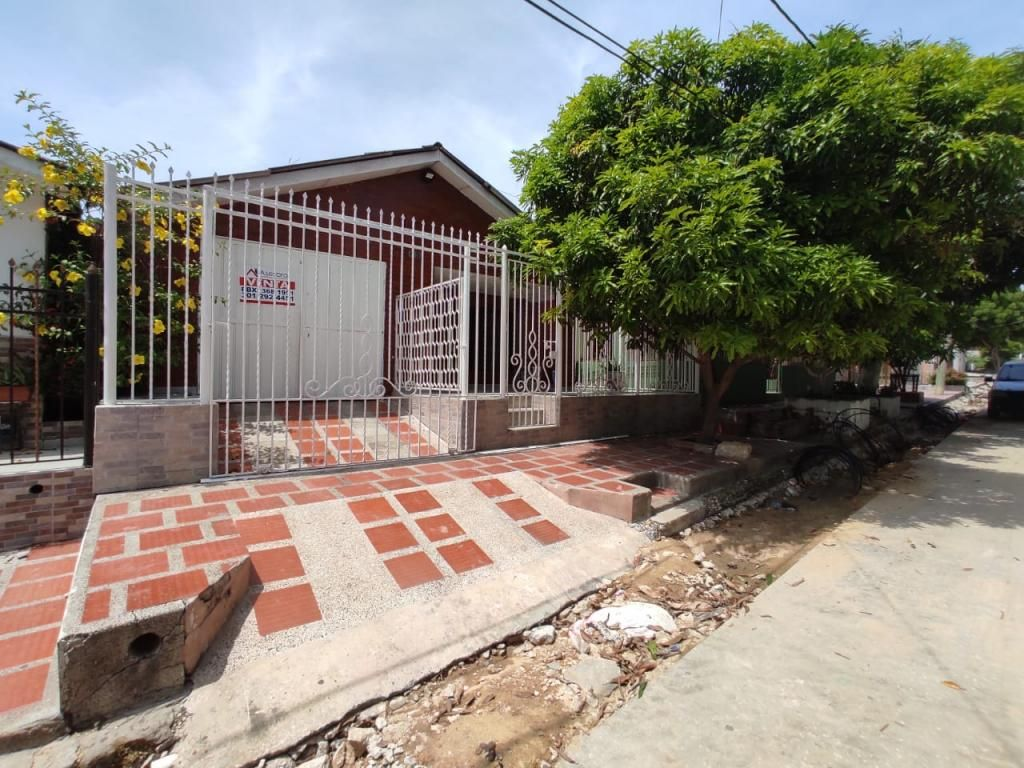House: (123, 115, 571, 454)
